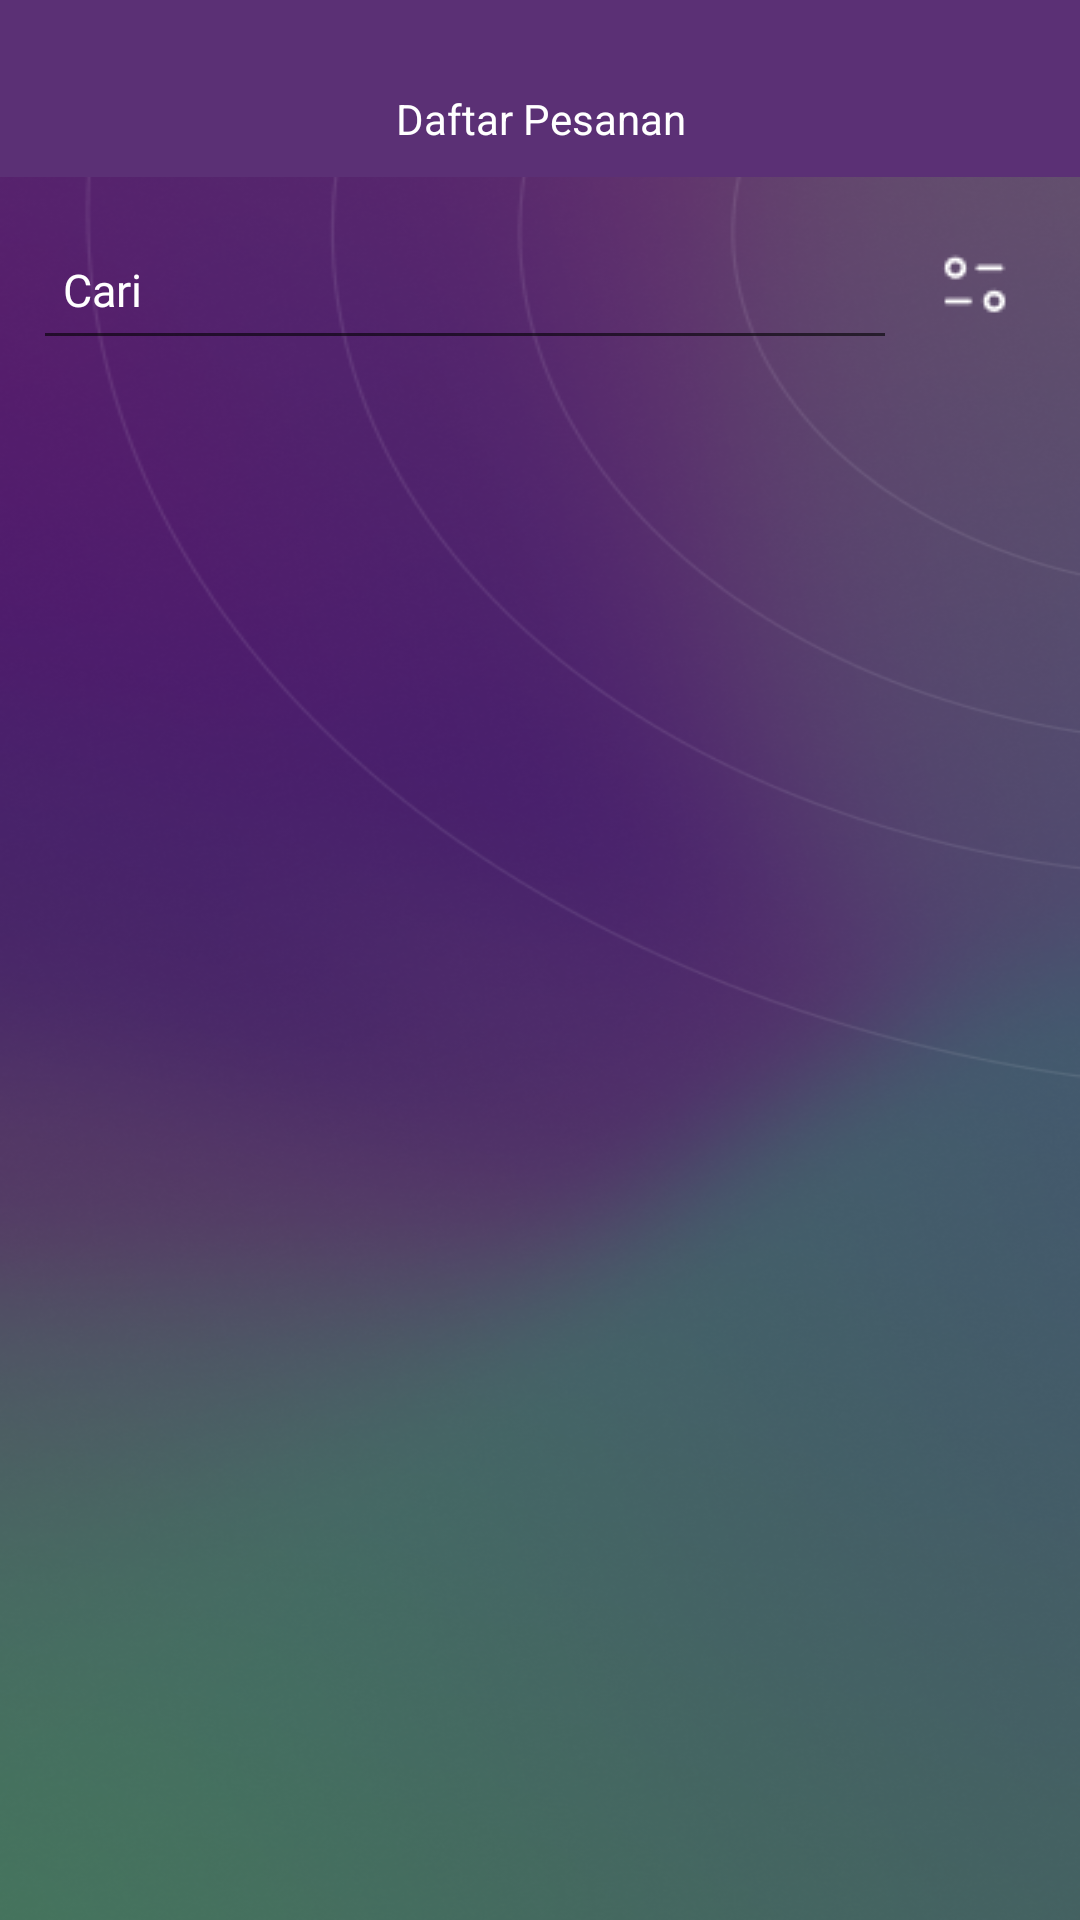

Screen size 1080×1920. Icon name, then its center in pixels as point (x, y):
filter: point (975, 284)
